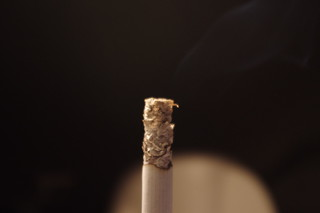cigarette: (138, 94, 180, 212)
